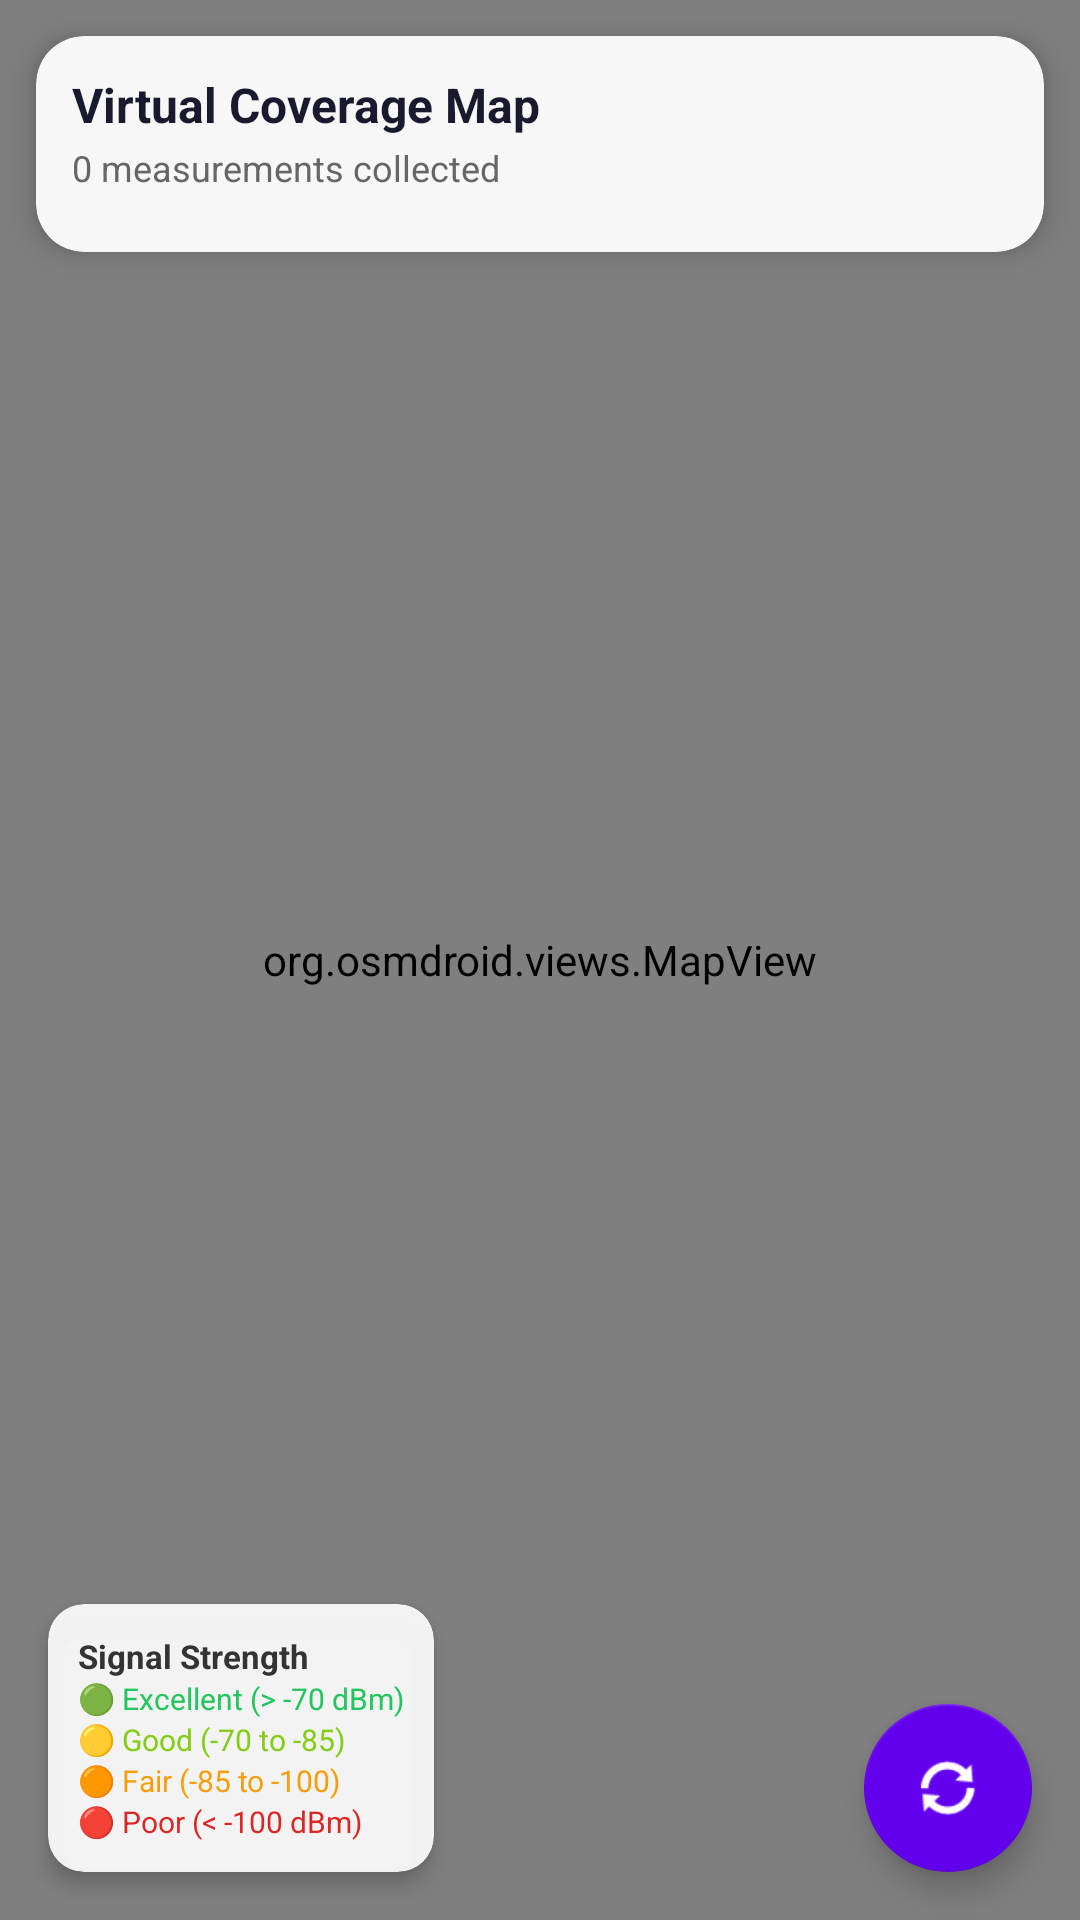

Where to tap for icons on this 1080w x 1920h app screen, as point (x, y):
Refresh map data: point (948, 1788)
